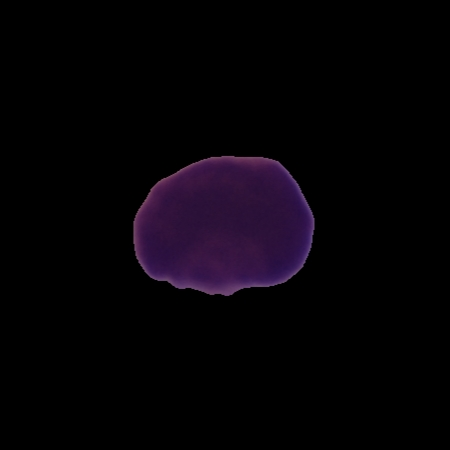ALL: (129, 152, 318, 298)
